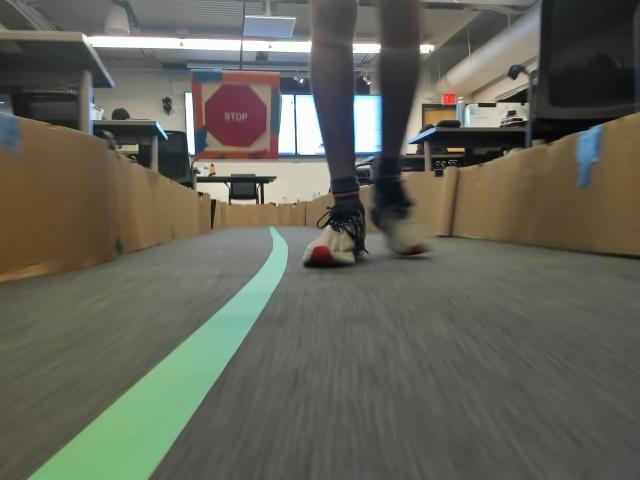Stop: (204, 84, 266, 145)
